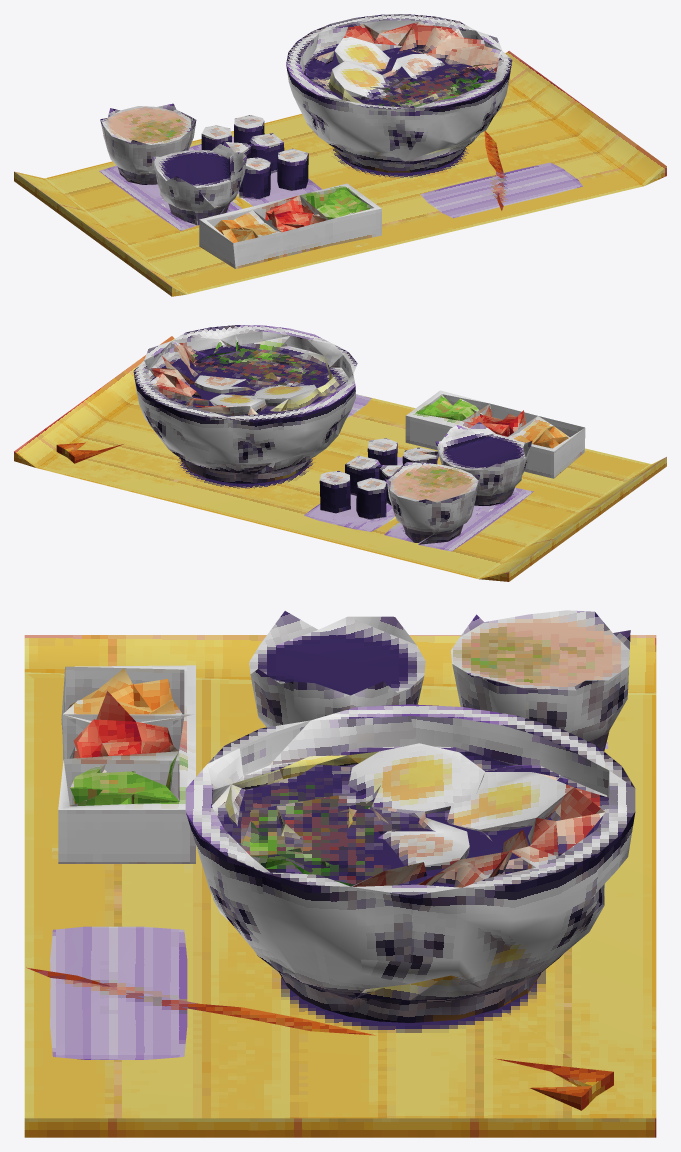
Rendered from udon_meal.glb.
3 renders of one model, top to bottom at view 1: azimuth 30°, elevation 25°; view 2: azimuth 150°, elevation 25°; view 3: azimuth 270°, elevation 25°, orthographic. The views are drawn at different scales.
Parts seen in each view (by area): view 1: mesh; view 2: mesh; view 3: mesh.
Boxes of the visible parts, bbox=[...] form: mesh: bbox=[14, 14, 666, 296]; mesh: bbox=[14, 325, 666, 581]; mesh: bbox=[24, 610, 656, 1137].
Bounding box in the file's own units: 0.4323 × 0.08 × 0.2388.
1 material, 1 textured.
